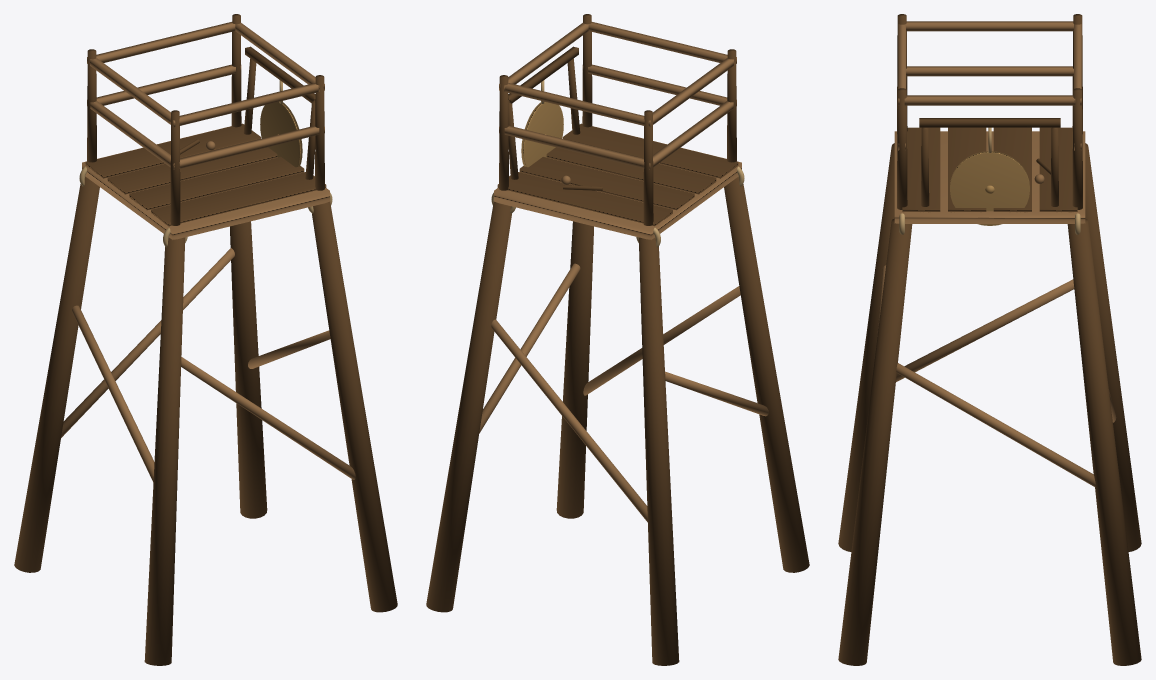
The model's file is 3D模型 props_watchtower.glb.
3 renders of one model, left to right at view 1: azimuth 30°, elevation 25°; view 2: azimuth 150°, elevation 25°; view 3: azimuth 270°, elevation 25°, orthographic. The views are drawn at different scales.
Parts seen in each view (by area): view 1: part_leg_3, part_leg_2, part_leg_1, part_leg_0, part_deck, part_deck_plank_1, part_deck_plank_0, part_deck_plank_3, part_deck_plank_2, part_brace_f, part_brace_b, part_brace_l (+14 smaller); view 2: part_leg_1, part_leg_0, part_leg_3, part_leg_2, part_deck, part_deck_plank_2, part_deck_plank_3, part_deck_plank_0, part_brace_b, part_deck_plank_1, part_brace_r, part_gong (+14 smaller); view 3: part_leg_2, part_leg_0, part_leg_1, part_leg_3, part_deck, part_gong, part_brace_r, part_deck_plank_0, part_deck_plank_3, part_brace_l, part_rail_e_hi, part_rail_w_1 (+10 smaller).
Part boxes in pixels (bbox=[...]): part_leg_3: bbox=[144, 237, 185, 665]; part_leg_2: bbox=[312, 201, 397, 612]; part_leg_1: bbox=[14, 176, 99, 572]; part_leg_0: bbox=[230, 221, 267, 518]; part_deck: bbox=[82, 126, 329, 239]; part_deck_plank_1: bbox=[129, 157, 304, 210]; part_deck_plank_0: bbox=[151, 172, 326, 226]; part_deck_plank_3: bbox=[85, 123, 260, 178]; part_deck_plank_2: bbox=[107, 147, 277, 194]; part_brace_f: bbox=[181, 357, 355, 479]; part_brace_b: bbox=[61, 248, 234, 437]; part_brace_l: bbox=[72, 305, 154, 482]; part_leg_1: bbox=[638, 237, 679, 665]; part_leg_0: bbox=[426, 201, 511, 612]; part_leg_3: bbox=[724, 176, 809, 572]; part_leg_2: bbox=[556, 221, 593, 518]; part_deck: bbox=[494, 126, 741, 239]; part_deck_plank_2: bbox=[519, 157, 694, 210]; part_deck_plank_3: bbox=[497, 172, 672, 226]; part_deck_plank_0: bbox=[563, 123, 738, 178]; part_brace_b: bbox=[491, 319, 647, 522]; part_deck_plank_1: bbox=[546, 147, 716, 194]; part_brace_r: bbox=[479, 263, 580, 433]; part_gong: bbox=[521, 101, 563, 167]; part_leg_2: bbox=[838, 218, 912, 665]; part_leg_0: bbox=[1067, 218, 1141, 665]; part_leg_1: bbox=[1085, 143, 1141, 551]; part_leg_3: bbox=[838, 143, 894, 551]; part_deck: bbox=[894, 131, 1085, 223]; part_gong: bbox=[950, 151, 1029, 225]; part_brace_r: bbox=[896, 363, 1095, 486]; part_deck_plank_0: bbox=[902, 127, 940, 212]; part_deck_plank_3: bbox=[1039, 127, 1077, 212]; part_brace_l: bbox=[896, 279, 1074, 381]; part_rail_e_hi: bbox=[898, 95, 1081, 105]; part_rail_w_1: bbox=[906, 21, 1073, 31].
Size of the model in its own units: 1.59 by 3.19 by 1.59.
